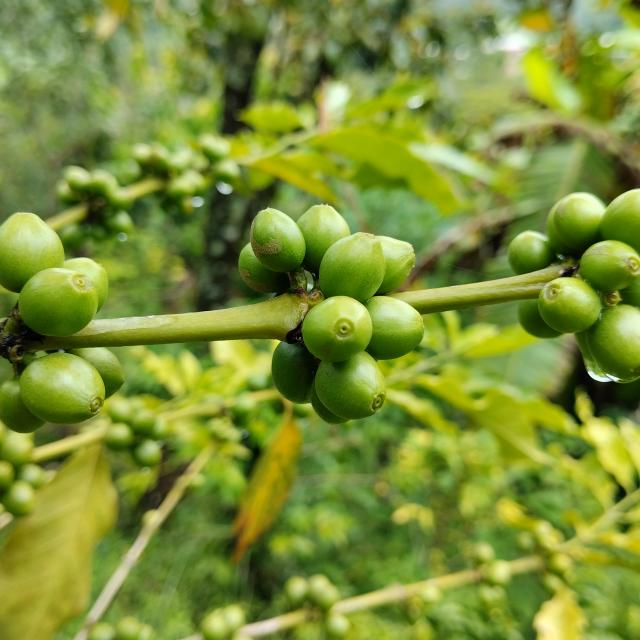green: (19, 353, 104, 425), (18, 268, 98, 337), (0, 212, 64, 293), (315, 351, 386, 420), (319, 232, 386, 303), (302, 296, 372, 362), (365, 296, 425, 360), (297, 204, 351, 273), (250, 208, 306, 272), (539, 277, 602, 333), (553, 192, 607, 254), (580, 240, 640, 292), (65, 348, 124, 399), (271, 342, 318, 404), (238, 243, 290, 294), (601, 188, 640, 253), (62, 258, 108, 312), (376, 236, 416, 295), (509, 230, 556, 275), (310, 380, 349, 425)
